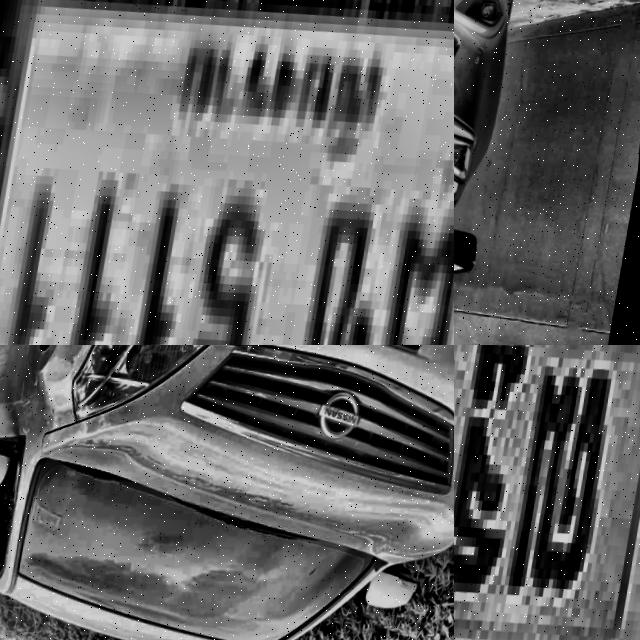license-plate: (0, 0, 454, 345), (454, 345, 640, 640)
